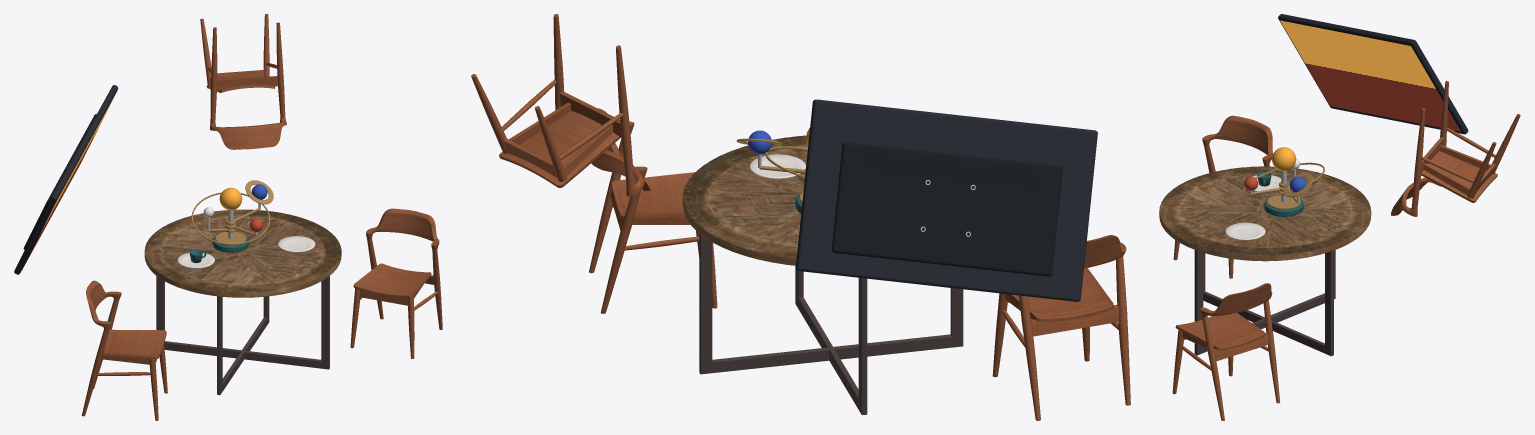
The model's file is breakfast.glb.
3 renders of one model, left to right at view 1: azimuth 30°, elevation 25°; view 2: azimuth 150°, elevation 25°; view 3: azimuth 270°, elevation 25°, orthographic. The views are drawn at different scales.
Visible parts, largest first — view 1: Dining-table, Dining-chair.001, Dining-chair.002, Dining-chair, TV / graphite frame.001, Side plate.001, Gilded sun; view 2: TV / graphite frame.001, TV / rear enclosure.001, Dining-table, Dining-chair.002, Dining-chair, Dining-chair.001, Side plate.001, TV / cooling louvres.001; view 3: Dining-table, Dining-chair.001, TV / active picture.002, Dining-chair.002, TV / active picture.003, Dining-chair, TV / graphite frame.001, TV / glass surround.001, Side plate.001, Gilded sun, Stepped enamel plinth, Brass chapter ring.
Boxes of the visible parts, x1,y1,x2,y2 form: Dining-table: [144, 209, 341, 395]; Dining-chair.001: [350, 208, 442, 358]; Dining-chair.002: [200, 14, 286, 149]; Dining-chair: [81, 280, 167, 420]; TV / graphite frame.001: [14, 85, 117, 274]; Side plate.001: [278, 236, 315, 252]; Gilded sun: [219, 187, 242, 210]; TV / graphite frame.001: [795, 99, 1097, 301]; TV / rear enclosure.001: [831, 142, 1062, 276]; Dining-table: [682, 135, 963, 414]; Dining-chair.002: [471, 14, 650, 196]; Dining-chair: [992, 235, 1130, 420]; Dining-chair.001: [589, 108, 717, 313]; Side plate.001: [749, 154, 805, 178]; TV / cooling louvres.001: [866, 157, 1037, 185]; Dining-table: [1159, 166, 1371, 356]; Dining-chair.001: [1172, 283, 1280, 420]; TV / active picture.002: [1280, 20, 1395, 118]; Dining-chair.002: [1391, 80, 1520, 216]; TV / active picture.003: [1345, 33, 1460, 131]; Dining-chair: [1173, 115, 1273, 278]; TV / graphite frame.001: [1278, 14, 1468, 134]; TV / glass surround.001: [1278, 18, 1463, 132]; Side plate.001: [1225, 222, 1265, 240]; Gilded sun: [1272, 147, 1296, 171]; Stepped enamel plinth: [1264, 198, 1303, 216]; Brass chapter ring: [1267, 195, 1300, 209].
Size of the model in its own units: 11.17 by 7.24 by 8.62.
Materials: 16 (4 with a texture image).
